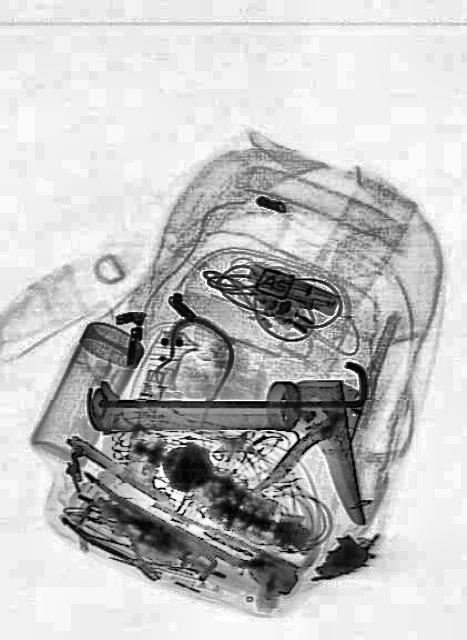Pliers: (58, 483, 166, 597)
